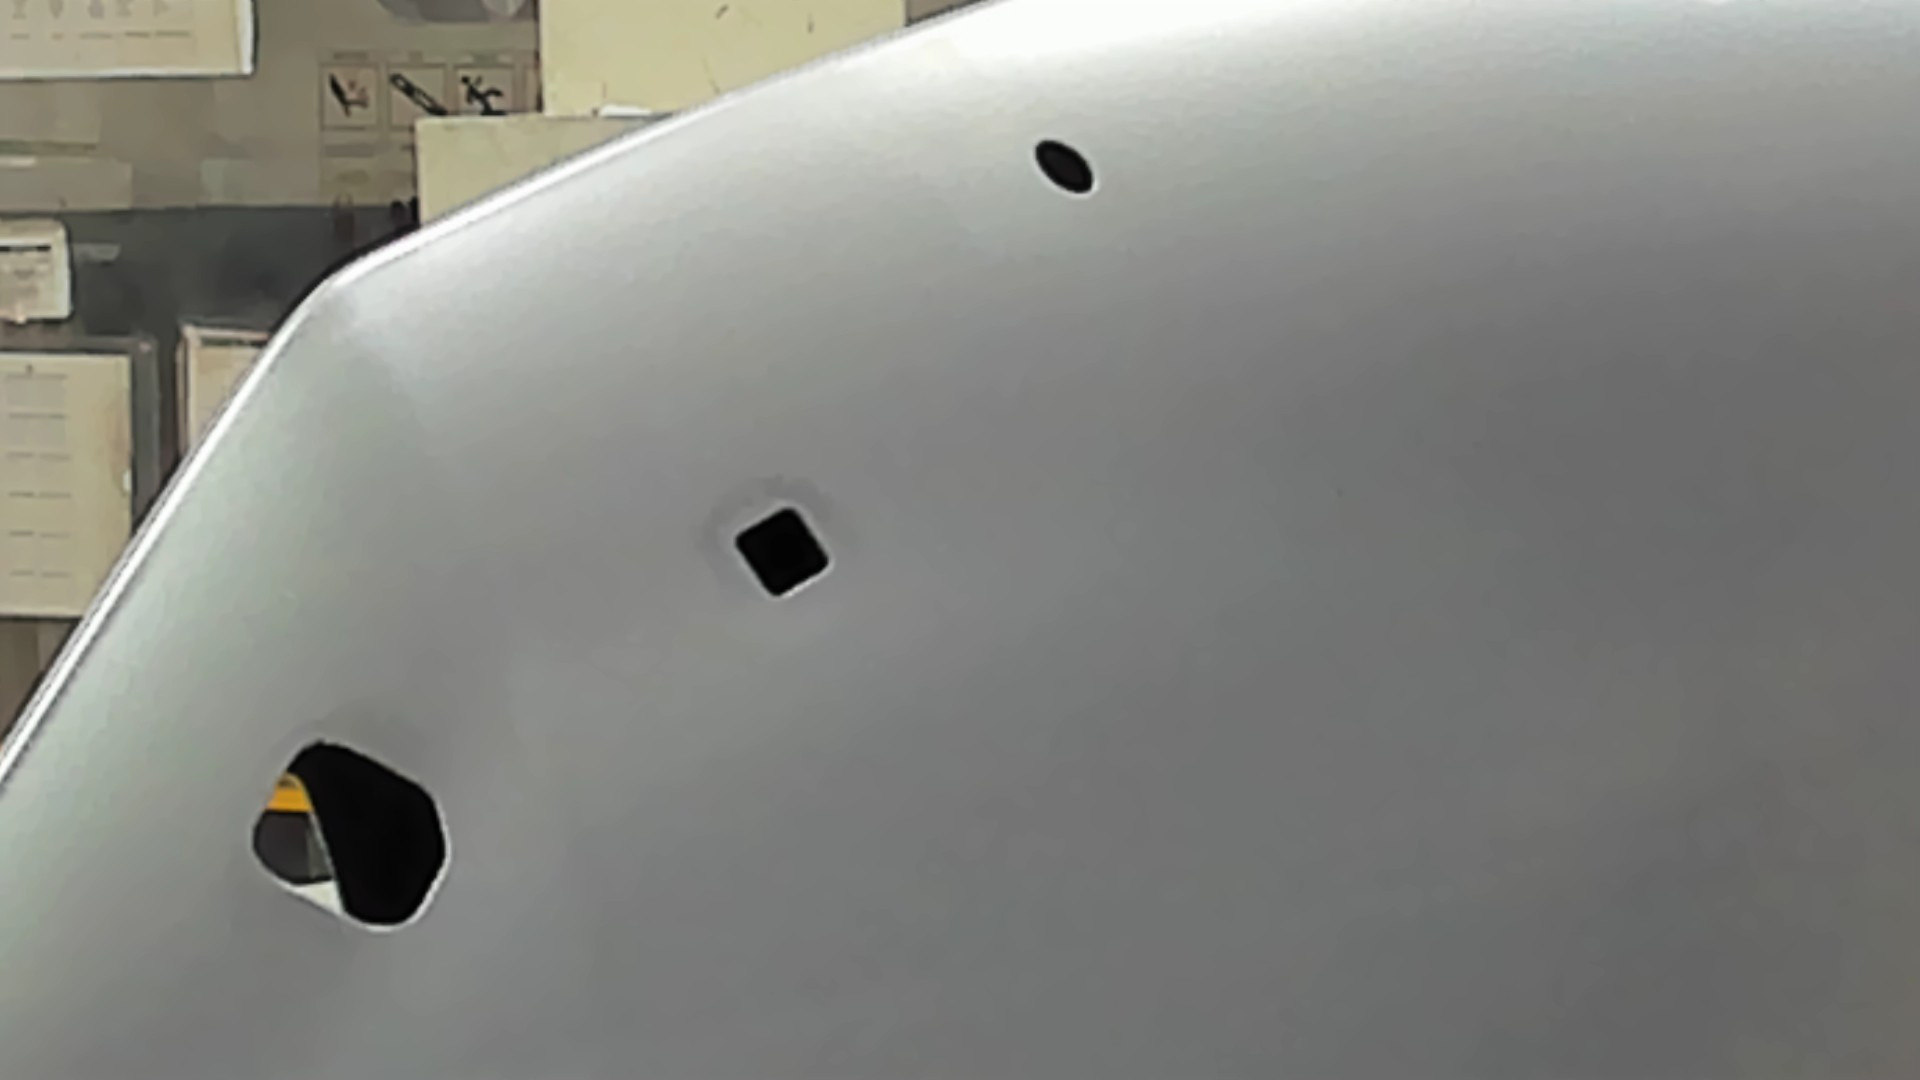chico: (1031, 136, 1095, 195)
grande: (247, 736, 451, 932)
mediano: (731, 498, 833, 603)
